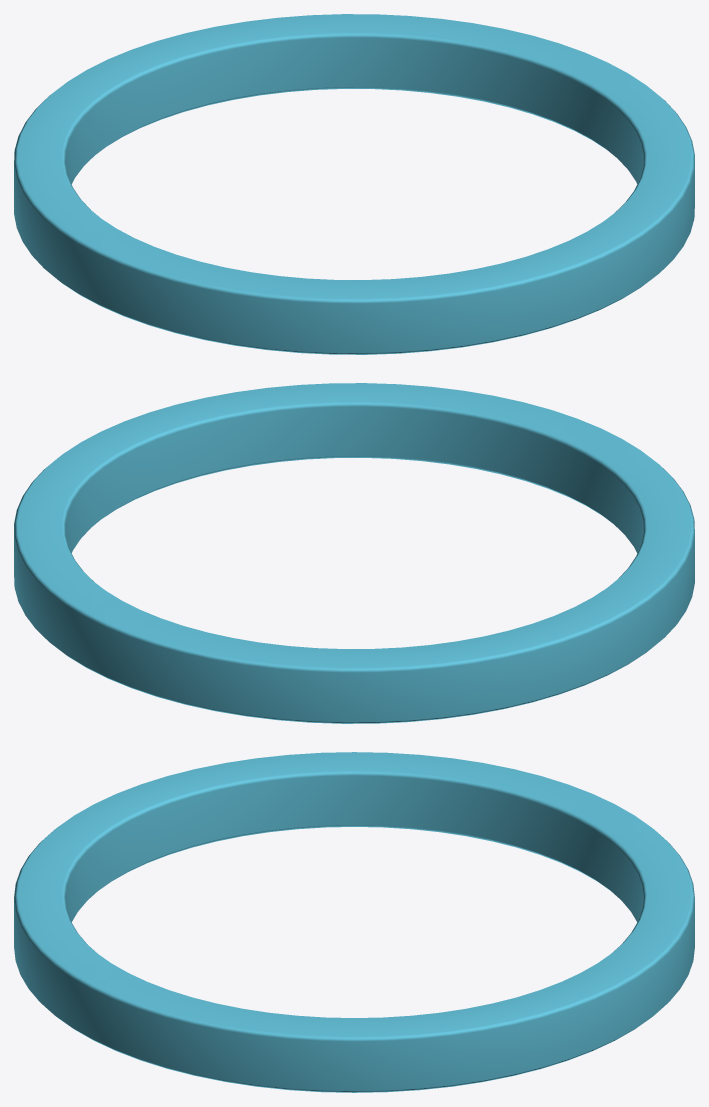
The picture shows the model from 3 angles, top to bottom: view 1: azimuth 30°, elevation 25°; view 2: azimuth 150°, elevation 25°; view 3: azimuth 270°, elevation 25°; orthographic projection.
Visible parts, largest first — view 1: seal_body; view 2: seal_body; view 3: seal_body.
Boxes of the visible parts, bbox=[...] form: seal_body: bbox=[14, 14, 694, 354]; seal_body: bbox=[14, 383, 694, 723]; seal_body: bbox=[14, 752, 694, 1092].
Bounding box in the file's own units: 0.066 × 0.006 × 0.066.
